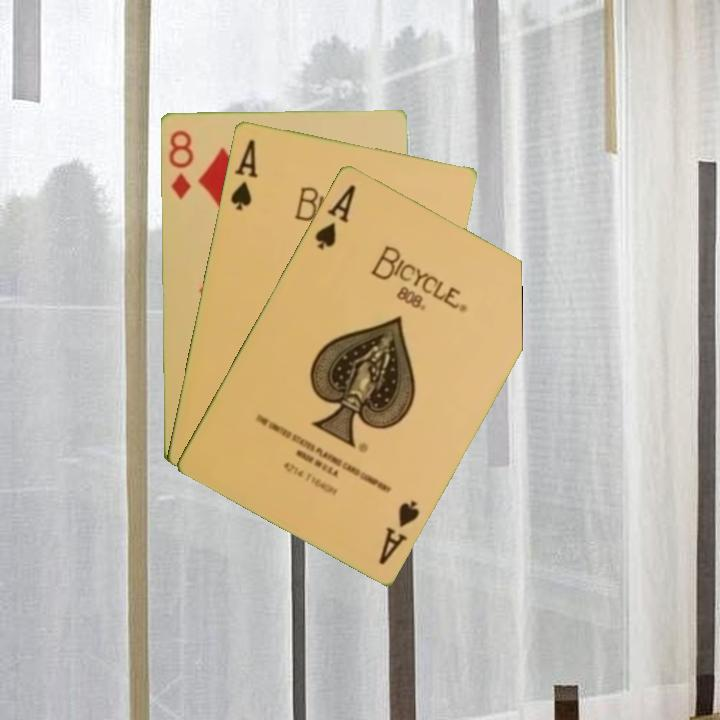8d: (165, 126, 196, 202)
As: (374, 496, 423, 567), (311, 180, 359, 252), (226, 135, 261, 213)
